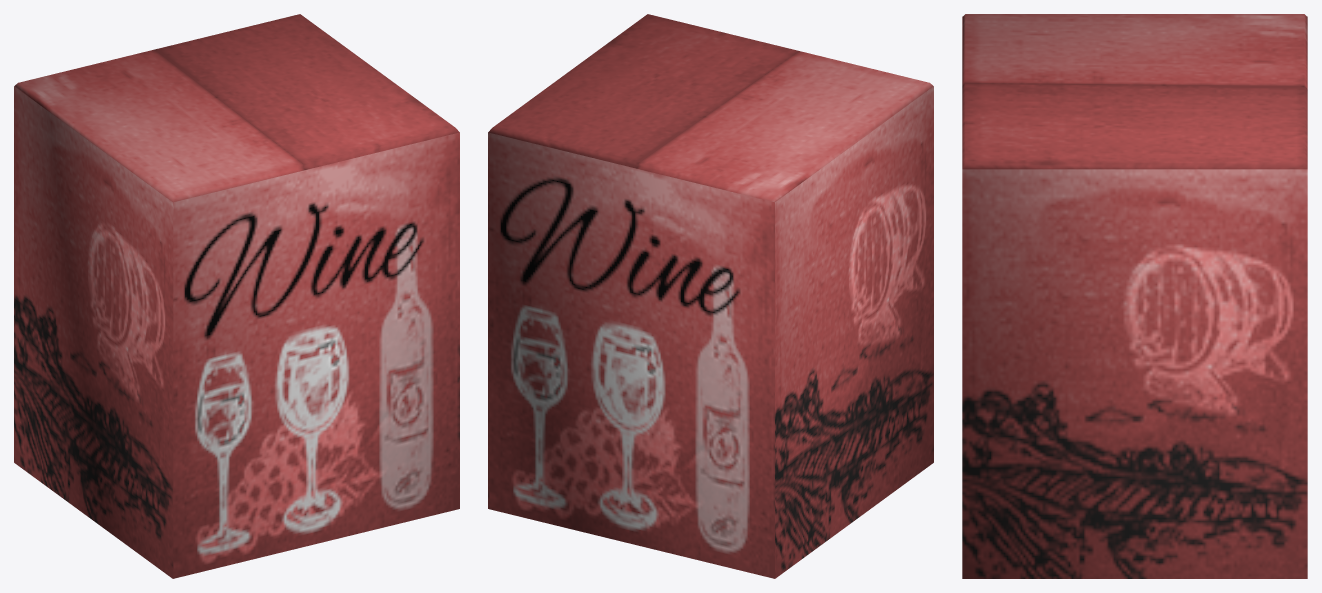
The model's file is BrewingKit.fbx.
3 views of the same model, side by side, from view 1: azimuth 30°, elevation 25°; view 2: azimuth 150°, elevation 25°; view 3: azimuth 270°, elevation 25° (orthographic). The views are drawn at different scales.
Visible parts, largest first — view 1: BrewingKit; view 2: BrewingKit; view 3: BrewingKit.
Boxes of the visible parts, <box> form: BrewingKit: <box>14,14,459,578</box>; BrewingKit: <box>488,14,933,578</box>; BrewingKit: <box>962,14,1307,578</box>.
Bounding box in the file's own units: 0.5983 × 0.7582 × 0.5736.
